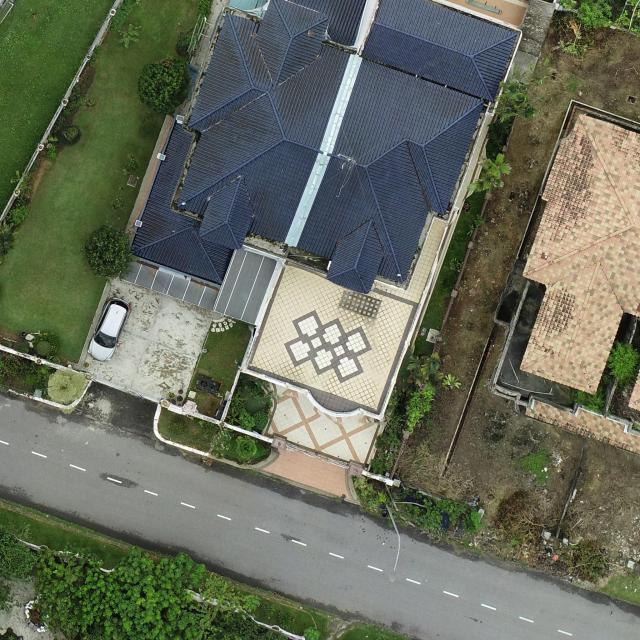Tree: (32, 544, 218, 640), (136, 55, 189, 115), (84, 224, 139, 280), (467, 153, 512, 195), (494, 79, 534, 123), (606, 339, 640, 385), (47, 368, 86, 403), (405, 351, 441, 384), (235, 434, 258, 460), (225, 406, 244, 427), (239, 412, 255, 431)
